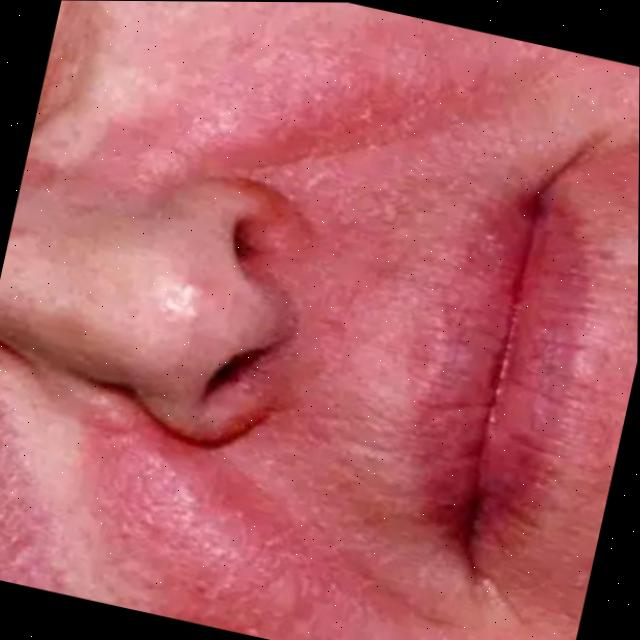Eczema: (120, 39, 640, 640)
